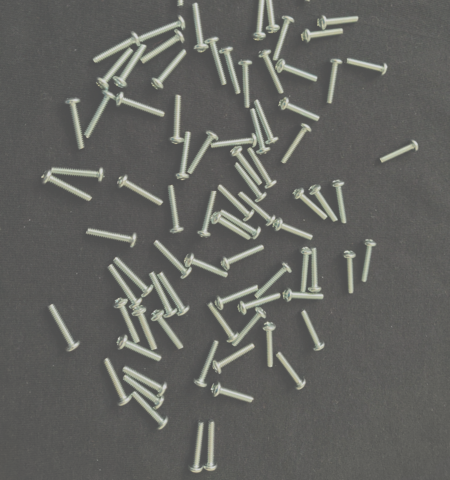longscrew: (40, 169, 93, 203), (112, 256, 154, 298), (94, 47, 134, 91), (46, 303, 81, 353), (106, 263, 143, 310), (92, 31, 141, 65), (150, 48, 188, 91), (84, 90, 116, 141), (140, 29, 185, 65), (112, 44, 147, 90), (153, 240, 193, 280), (131, 390, 170, 431), (117, 174, 164, 208), (157, 271, 191, 317), (122, 364, 168, 398), (254, 261, 293, 300), (187, 130, 220, 176), (123, 375, 166, 410), (136, 14, 186, 44), (102, 357, 132, 407), (217, 184, 255, 223), (237, 191, 277, 228), (231, 307, 267, 348), (149, 309, 184, 351), (233, 162, 268, 203), (115, 92, 166, 120), (111, 297, 141, 344), (212, 343, 256, 375), (229, 146, 263, 187), (149, 271, 178, 319), (280, 123, 313, 165), (206, 301, 239, 343), (116, 333, 162, 363), (192, 340, 220, 389), (247, 146, 278, 190), (220, 209, 262, 240), (292, 187, 329, 222), (211, 211, 252, 242), (214, 284, 259, 312), (308, 184, 340, 223), (63, 97, 86, 151), (257, 49, 284, 94), (184, 252, 229, 279), (220, 244, 265, 271), (131, 306, 158, 351), (276, 351, 307, 390), (204, 36, 228, 86), (254, 99, 279, 146), (299, 309, 326, 352), (272, 15, 296, 63), (196, 189, 219, 239), (278, 96, 320, 123), (237, 292, 282, 317), (210, 381, 255, 406), (85, 227, 138, 248), (219, 47, 242, 95), (275, 59, 319, 83), (249, 109, 271, 156), (379, 139, 420, 164), (190, 2, 210, 53), (166, 184, 186, 235), (50, 165, 106, 183), (273, 217, 314, 241), (187, 420, 205, 474), (325, 58, 344, 106), (174, 131, 192, 181), (345, 57, 389, 77), (330, 179, 349, 225), (168, 94, 185, 145), (237, 59, 254, 109), (211, 132, 258, 150), (360, 238, 378, 284), (203, 419, 218, 473), (261, 321, 278, 368), (282, 287, 326, 304), (308, 247, 324, 293), (341, 250, 357, 295), (316, 14, 360, 30), (301, 28, 345, 44), (298, 247, 313, 293), (252, 0, 268, 41), (263, 0, 281, 35), (173, 0, 190, 9), (300, 0, 313, 3)
